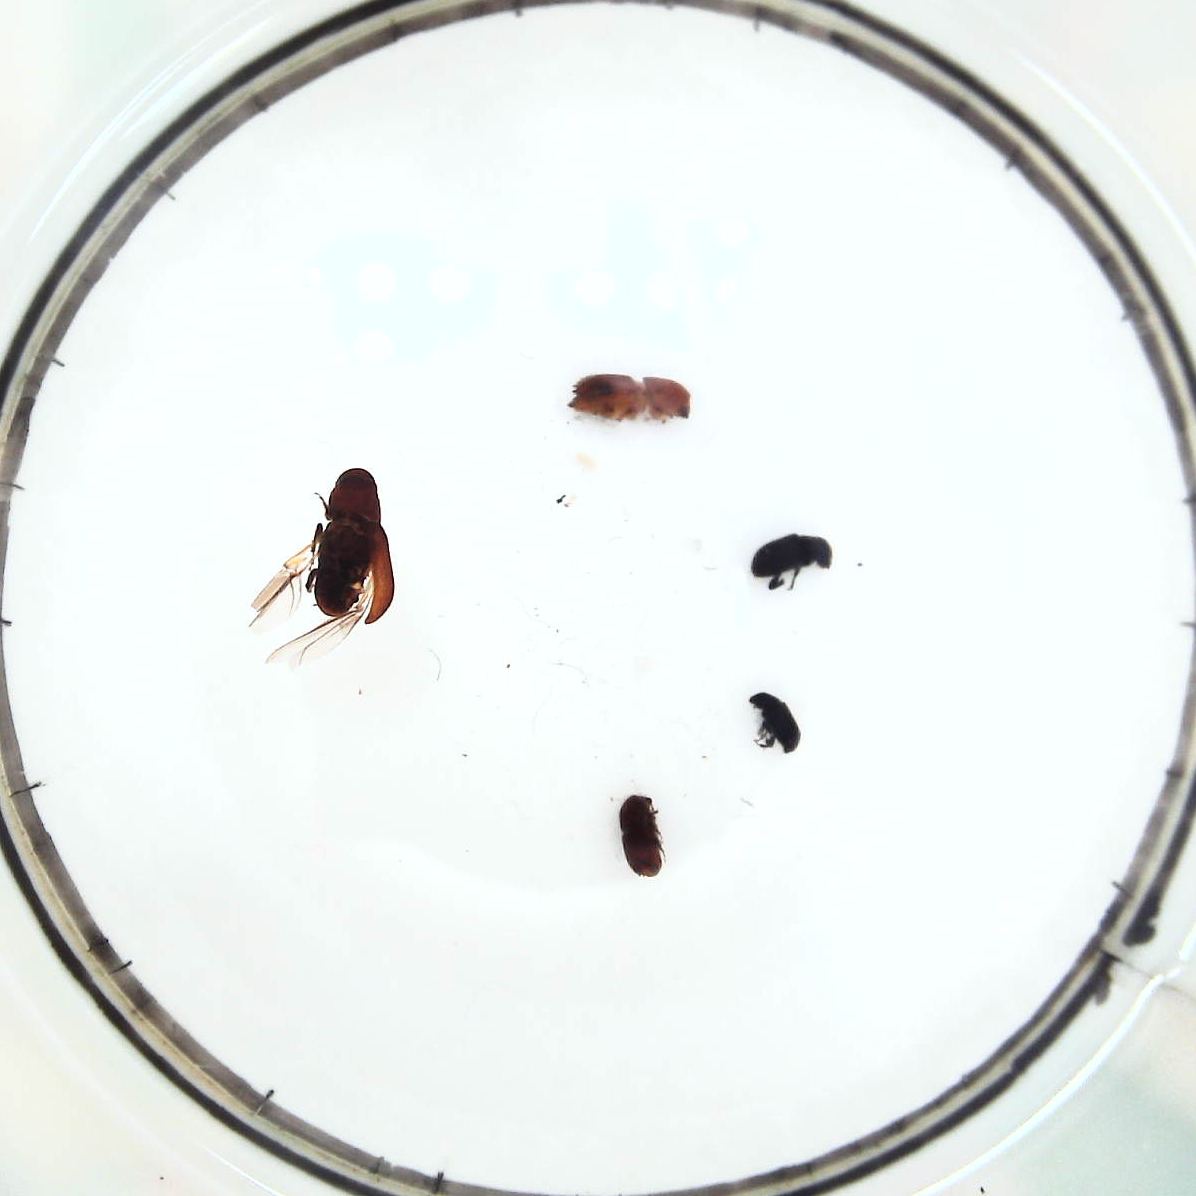Boerner: (571, 373, 695, 426)
Leconte: (253, 465, 396, 652)
Linnaeus: (620, 793, 666, 879)
armandi: (750, 534, 835, 580)
coleoptera: (747, 692, 802, 756)
